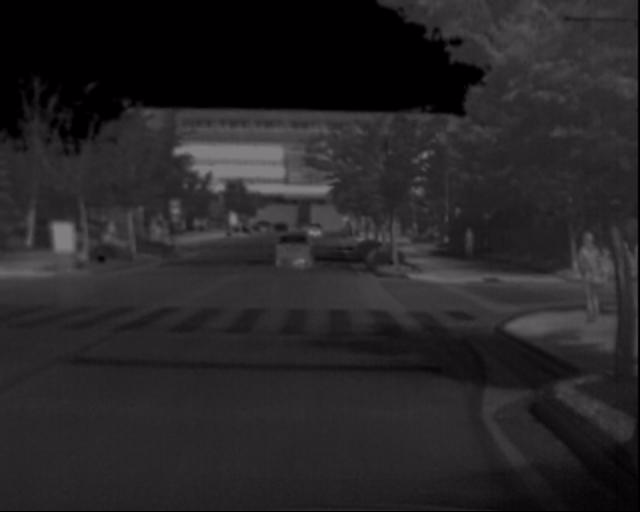person: (573, 226, 619, 330), (608, 233, 640, 320)
